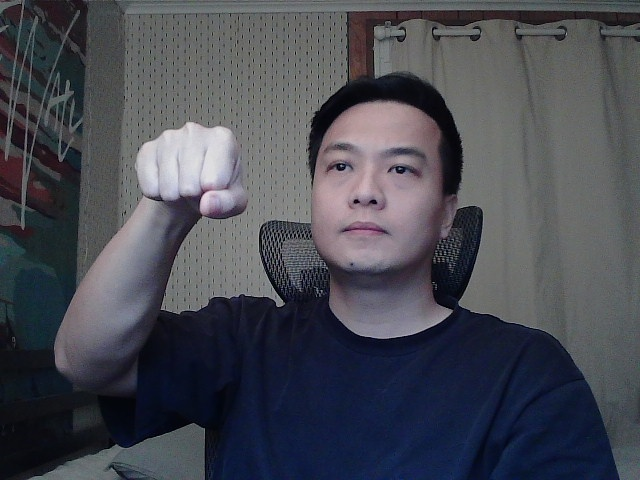Yes: (108, 111, 263, 230)
